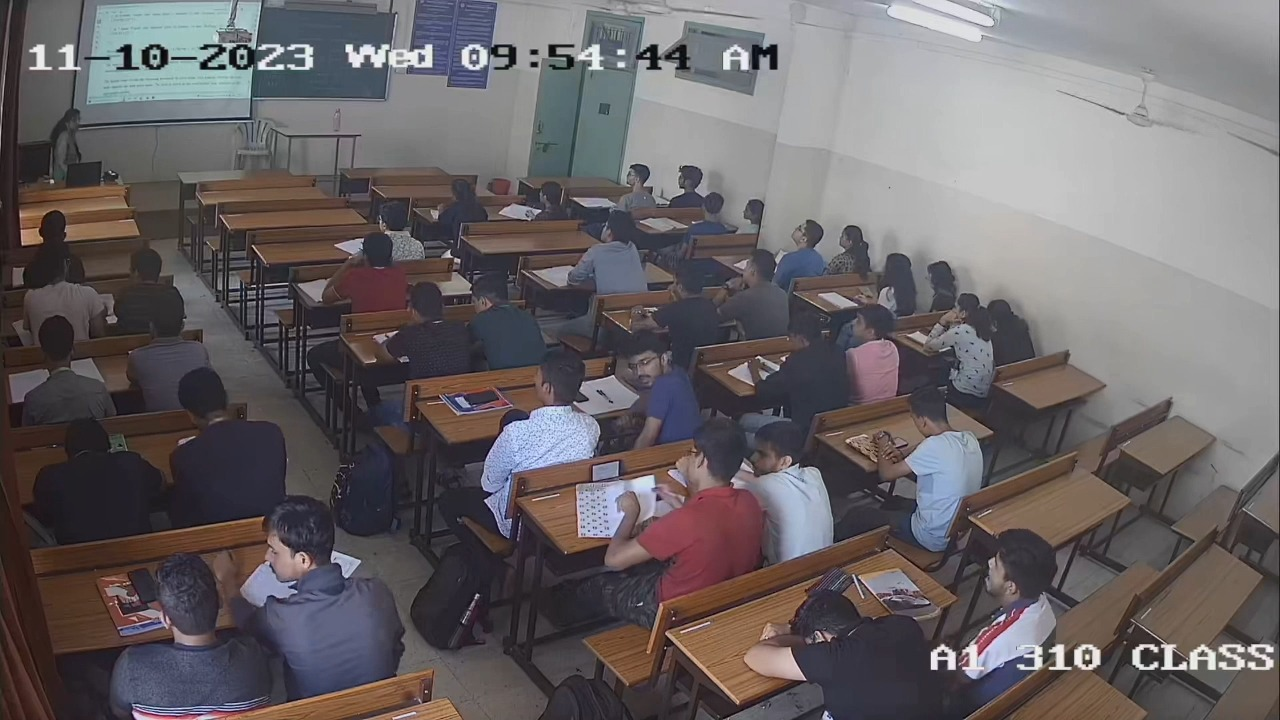cell-phones: (126, 566, 161, 604), (590, 459, 621, 482), (463, 389, 499, 406), (890, 435, 910, 449)
person: (107, 550, 266, 720), (629, 416, 764, 595), (486, 348, 600, 474), (900, 386, 984, 493)
